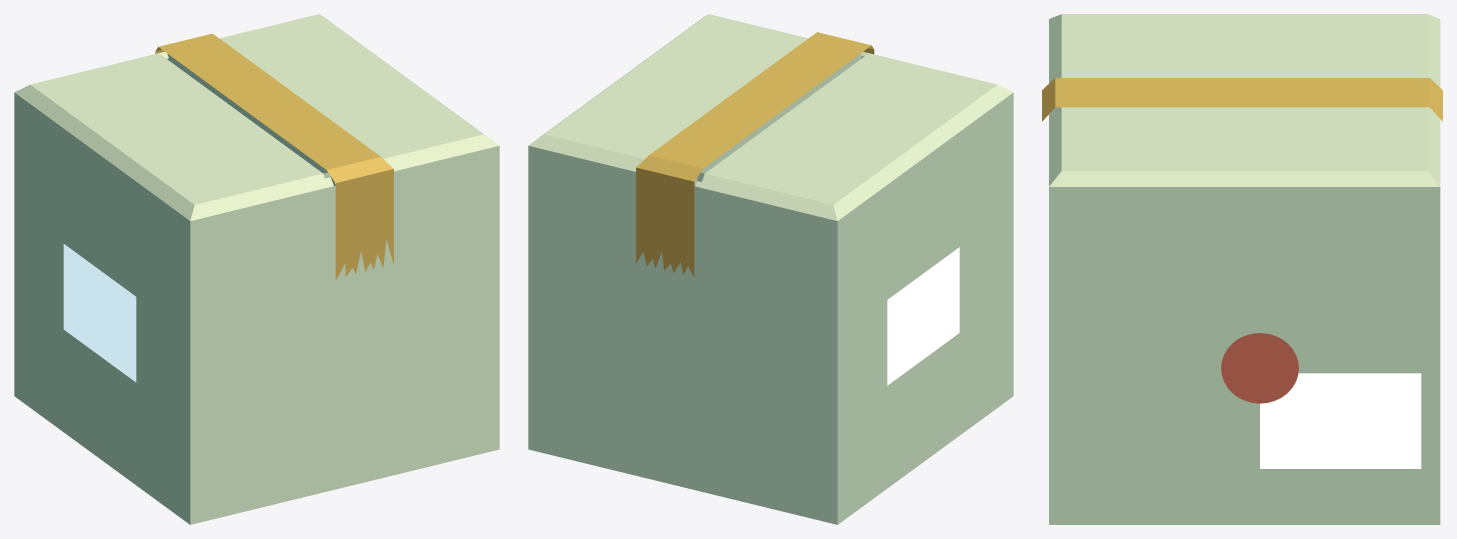
The picture shows the model from 3 angles, left to right: view 1: azimuth 30°, elevation 25°; view 2: azimuth 150°, elevation 25°; view 3: azimuth 270°, elevation 25°; orthographic projection. The views are drawn at different scales.
Visible parts, largest first — view 1: Cube.032, Cube.033; view 2: Cube.032, Cube.033; view 3: Cube.032, Cube.033, Circle.
Boxes of the visible parts, left/top/right/bottom form: Cube.032: left=14, top=14, right=499, bottom=524; Cube.033: left=155, top=33, right=393, bottom=279; Cube.032: left=528, top=14, right=1013, bottom=524; Cube.033: left=636, top=32, right=874, bottom=277; Cube.032: left=1049, top=14, right=1440, bottom=524; Cube.033: left=1042, top=78, right=1442, bottom=121; Circle: left=1221, top=333, right=1298, bottom=403.
Size of the model in its own units: 469 by 467 by 458.
